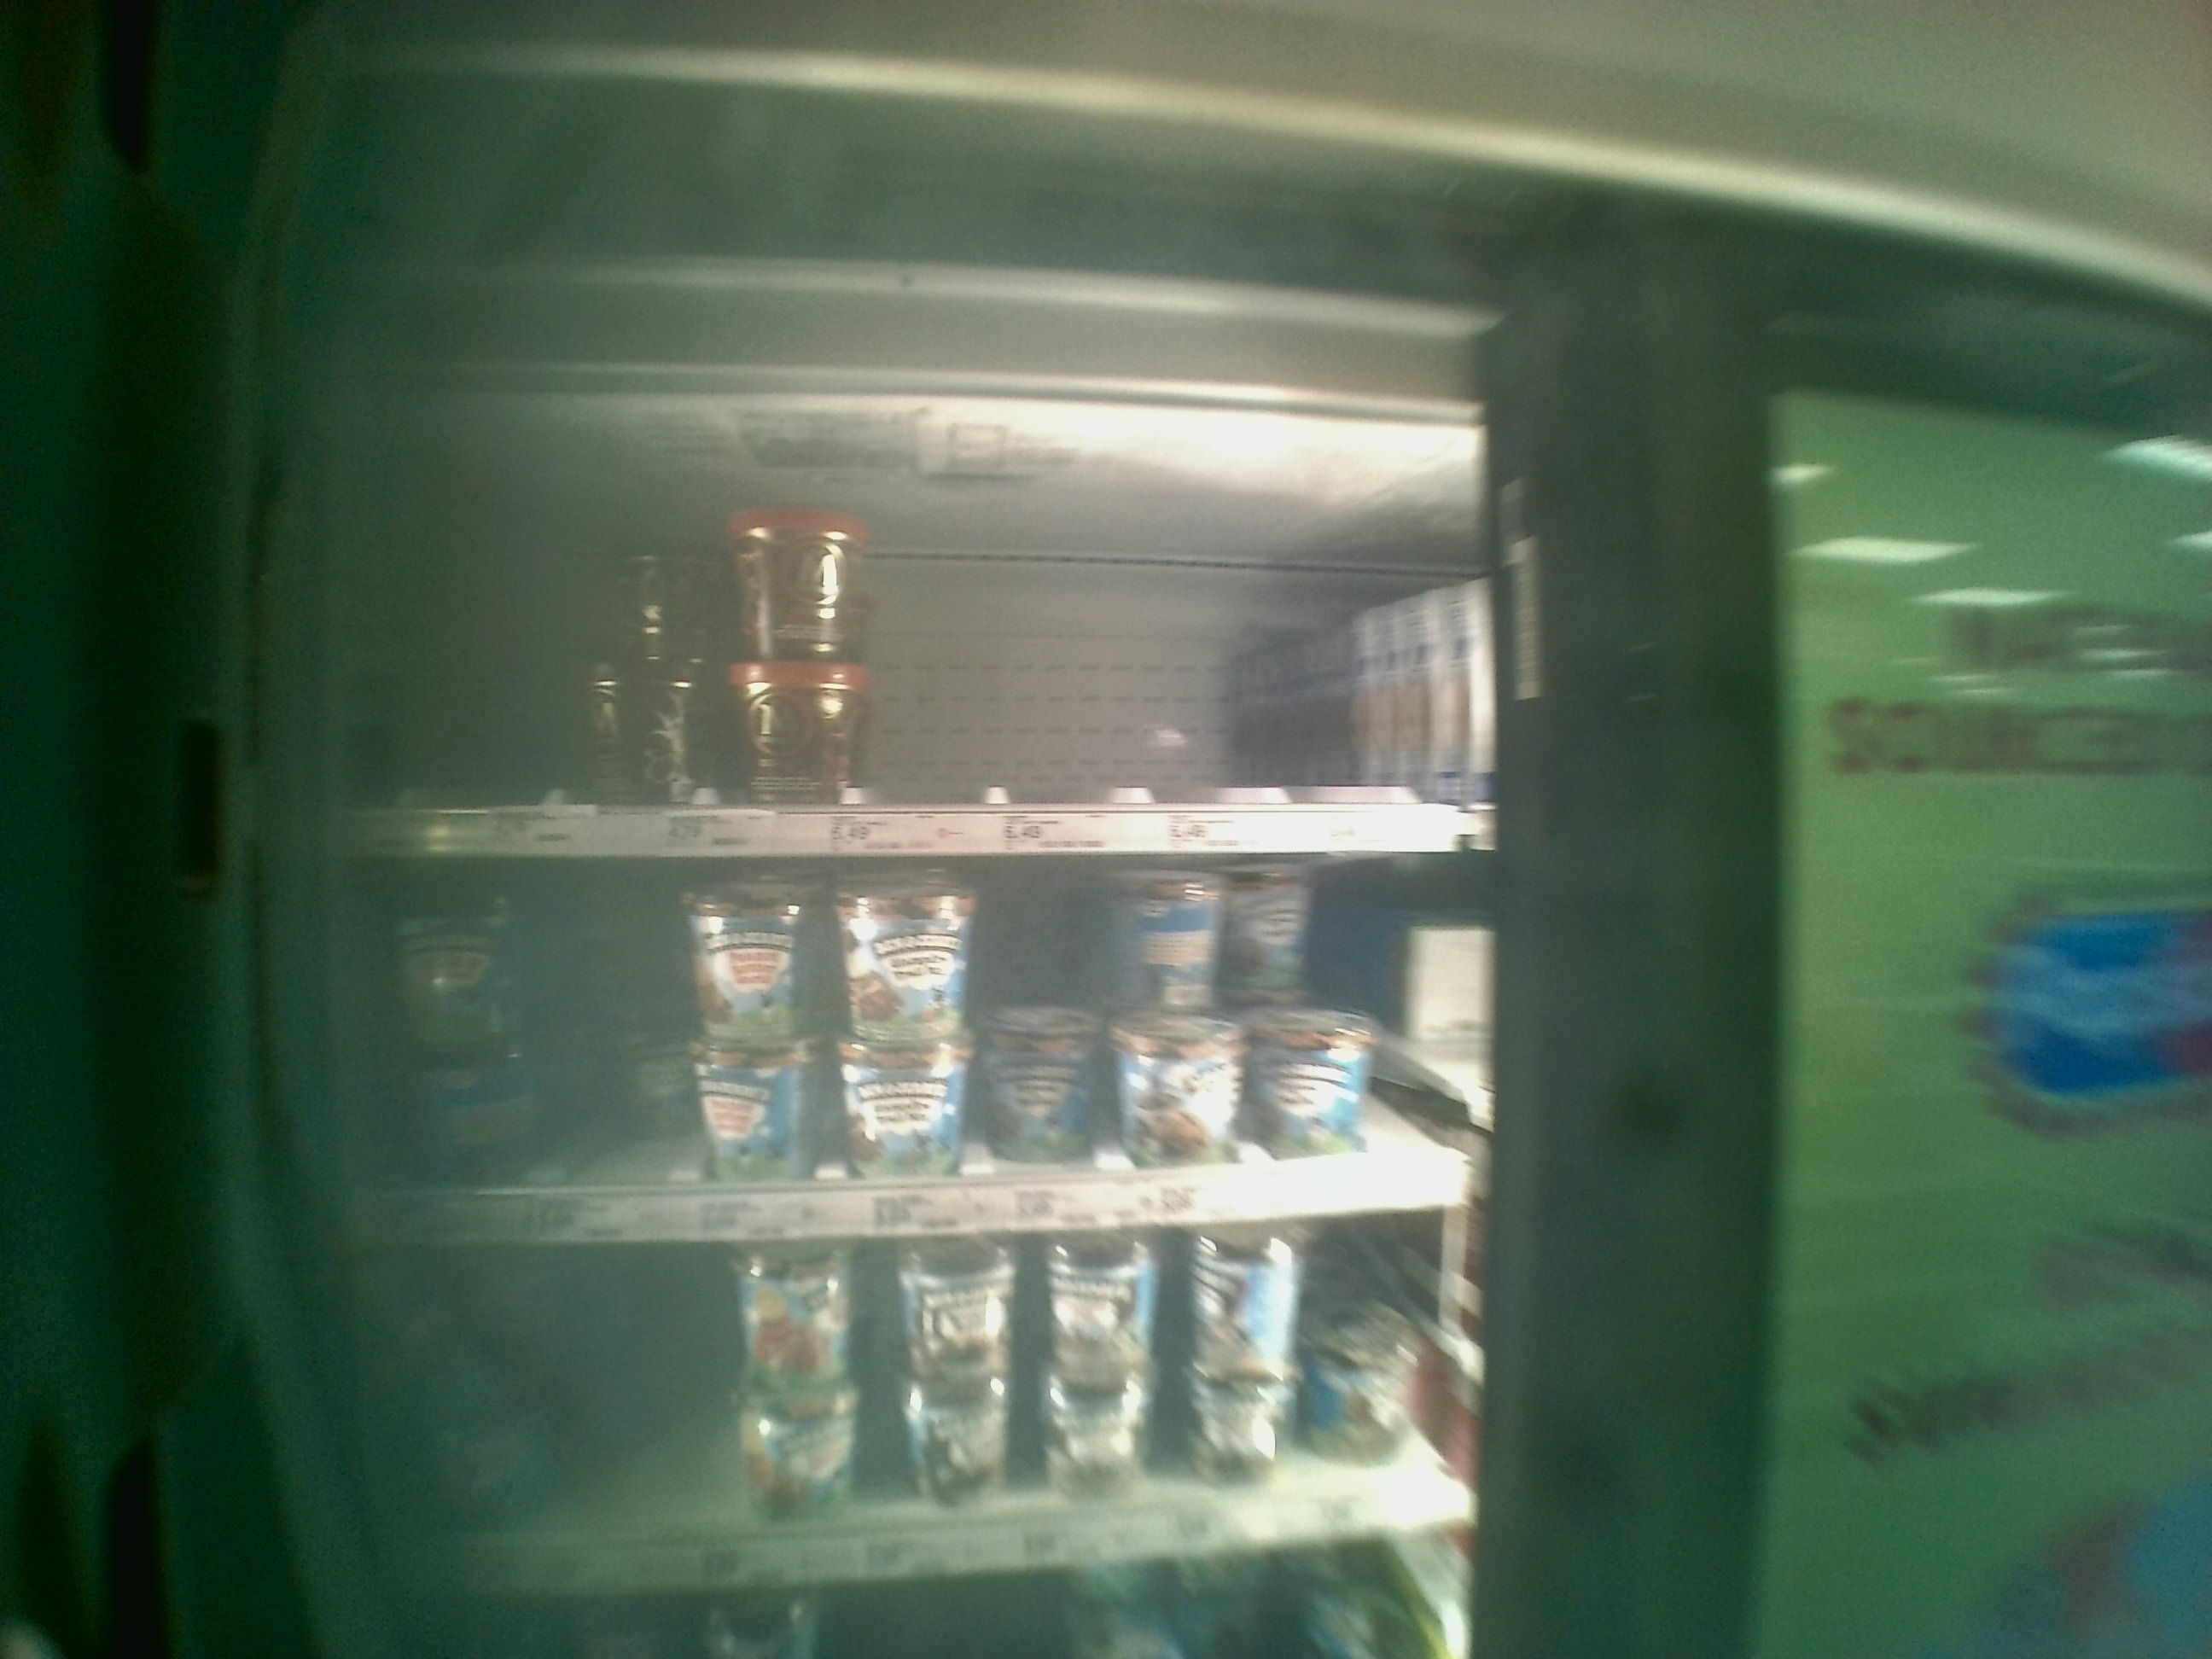shelf: (361, 420, 1489, 852), (361, 857, 1475, 1236)
